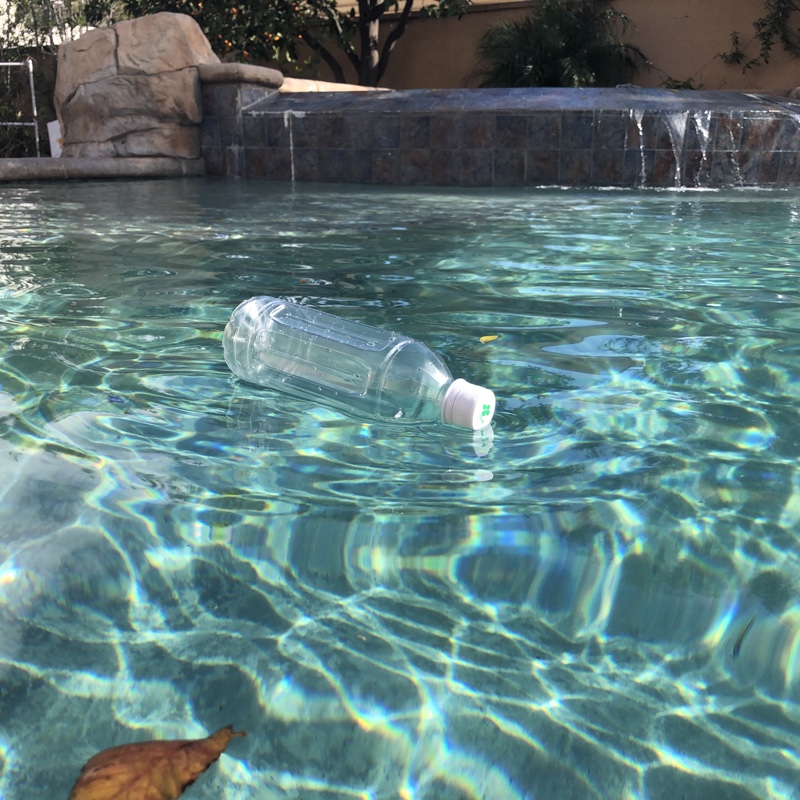Plastic Bottle: (216, 292, 498, 435)
